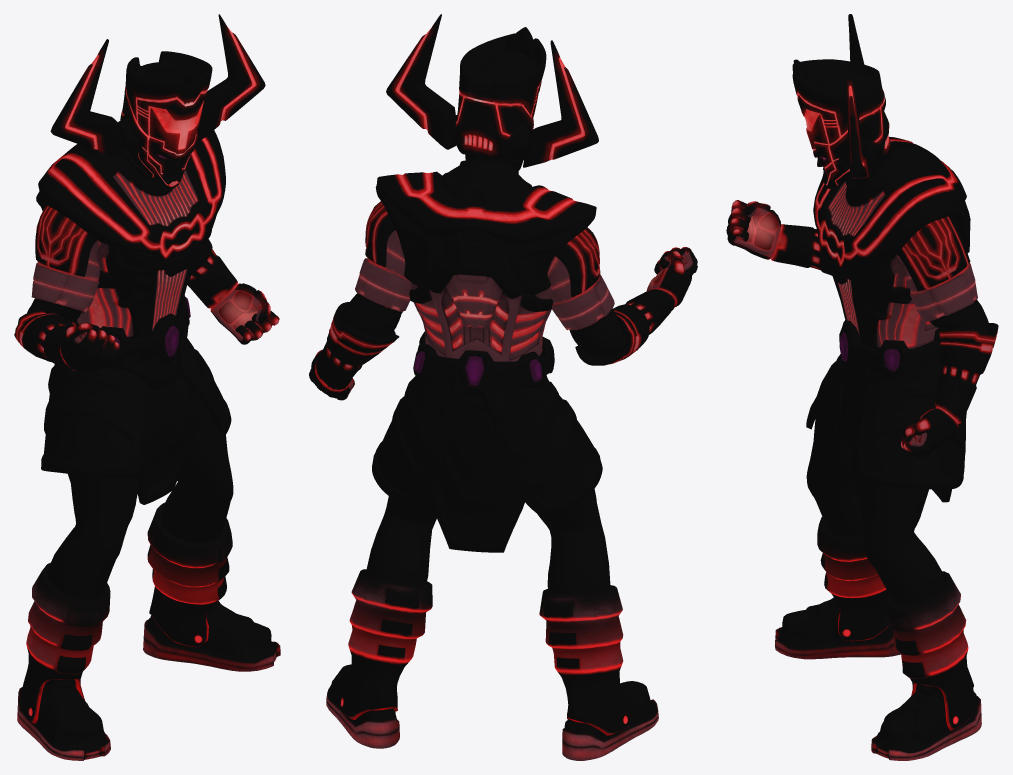
Rendered from galactus.glb.
The picture shows the model from 3 angles, left to right: view 1: azimuth 30°, elevation 25°; view 2: azimuth 150°, elevation 25°; view 3: azimuth 270°, elevation 25°; orthographic projection. The views are drawn at different scales.
Visible parts, largest first — view 1: SM_Junior_Static.mo; view 2: SM_Junior_Static.mo; view 3: SM_Junior_Static.mo.
Boxes of the visible parts, x1=… form: SM_Junior_Static.mo: x1=14, y1=14, x2=280, y2=760; SM_Junior_Static.mo: x1=309, y1=14, x2=697, y2=760; SM_Junior_Static.mo: x1=726, y1=14, x2=998, y2=760.
Size of the model in its own units: 78.98 by 176 by 66.06.
6 materials, 6 textured.
